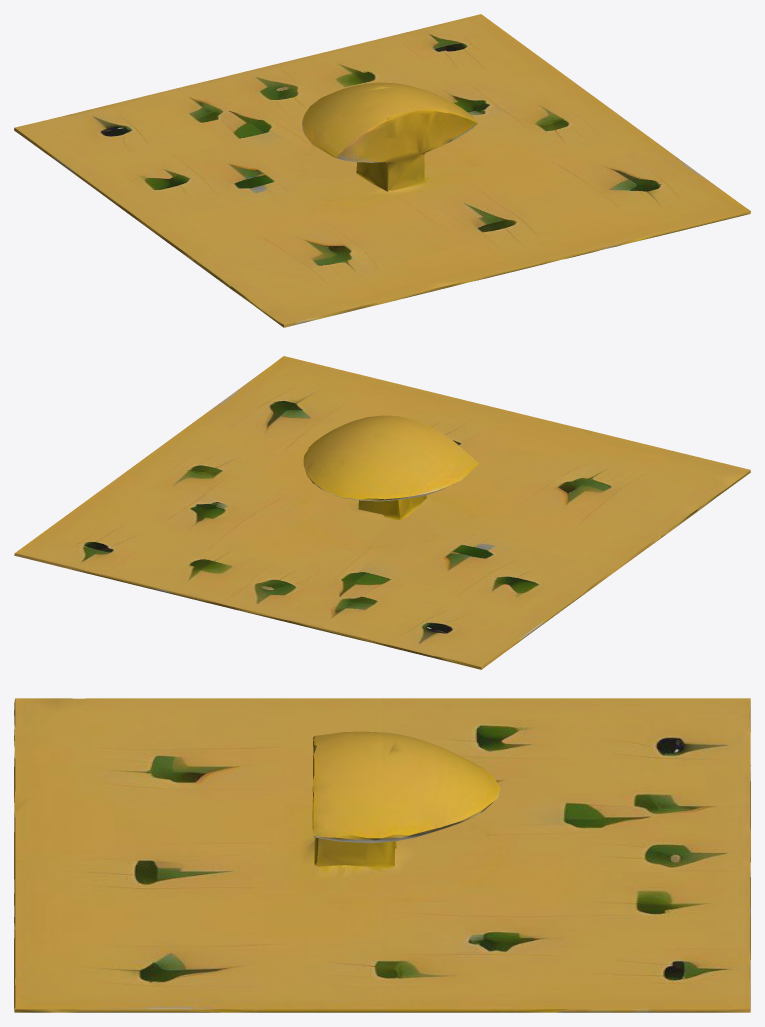
File: oscar-niemeyer-museum.glb
The picture shows the model from 3 angles, top to bottom: view 1: azimuth 30°, elevation 25°; view 2: azimuth 150°, elevation 25°; view 3: azimuth 270°, elevation 25°; orthographic projection. The views are drawn at different scales.
Visible parts, largest first — view 1: logan-textured.obj; view 2: logan-textured.obj; view 3: logan-textured.obj.
Part boxes in pixels (<box>): logan-textured.obj: <box>14,14,750,327</box>; logan-textured.obj: <box>14,356,750,669</box>; logan-textured.obj: <box>14,698,750,1012</box>.
Bounding box in the file's own units: 1 × 0.1738 × 0.9995.
1 material, 1 textured.
